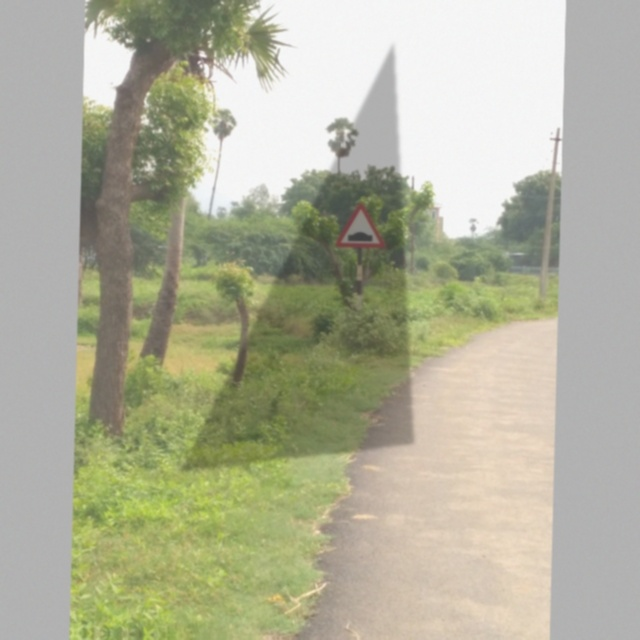Hump_or_Rough_Road: (330, 198, 388, 253)
